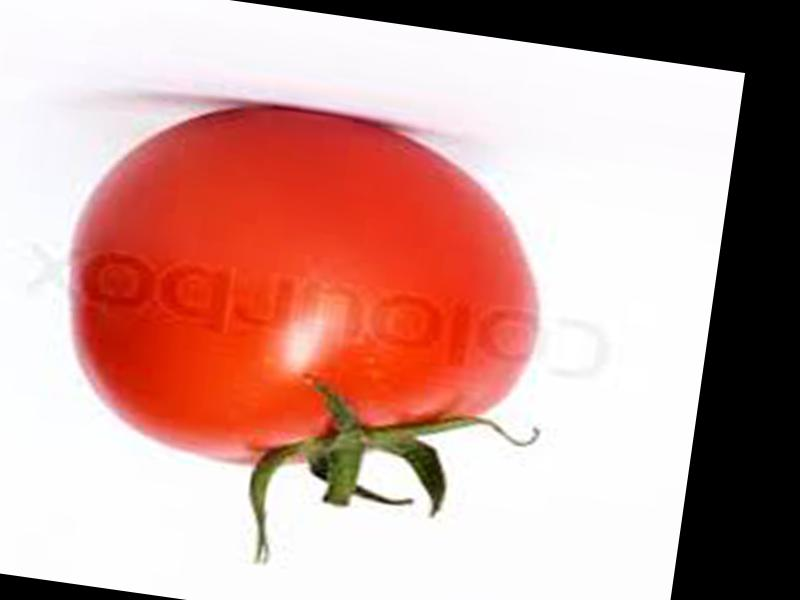Tomato: (46, 85, 558, 503)
